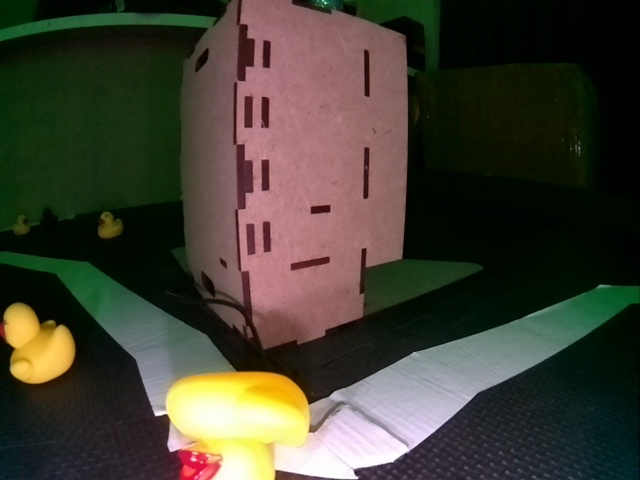Duckie: (167, 372, 306, 478), (6, 303, 75, 385), (98, 212, 124, 238), (12, 215, 31, 235)
